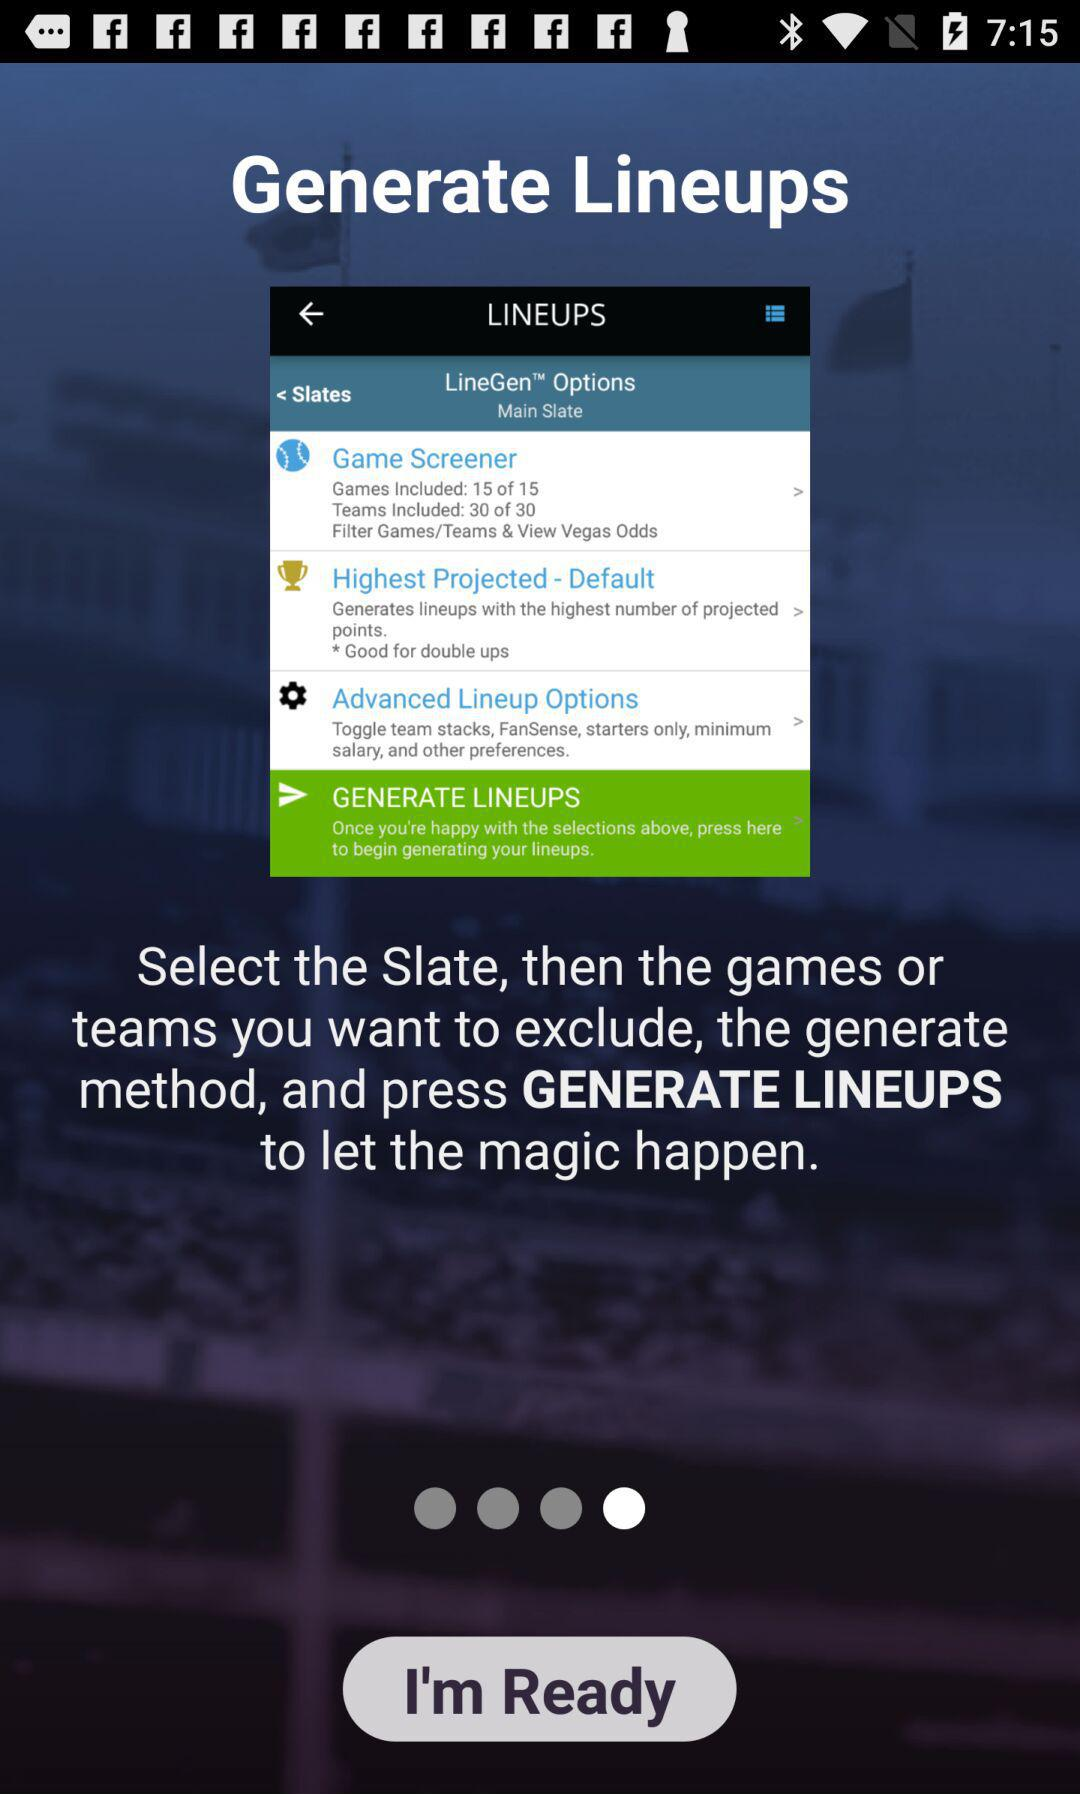BackgroundImage: (1, 64, 1080, 1794)
Image: (270, 286, 811, 878)
PageIndicator: (413, 1485, 647, 1533)
Text: (70, 943, 1010, 1181), (232, 154, 849, 232)
TextButton: (342, 1635, 738, 1743)
UpperTaskBar: (1, 1, 1080, 64)
